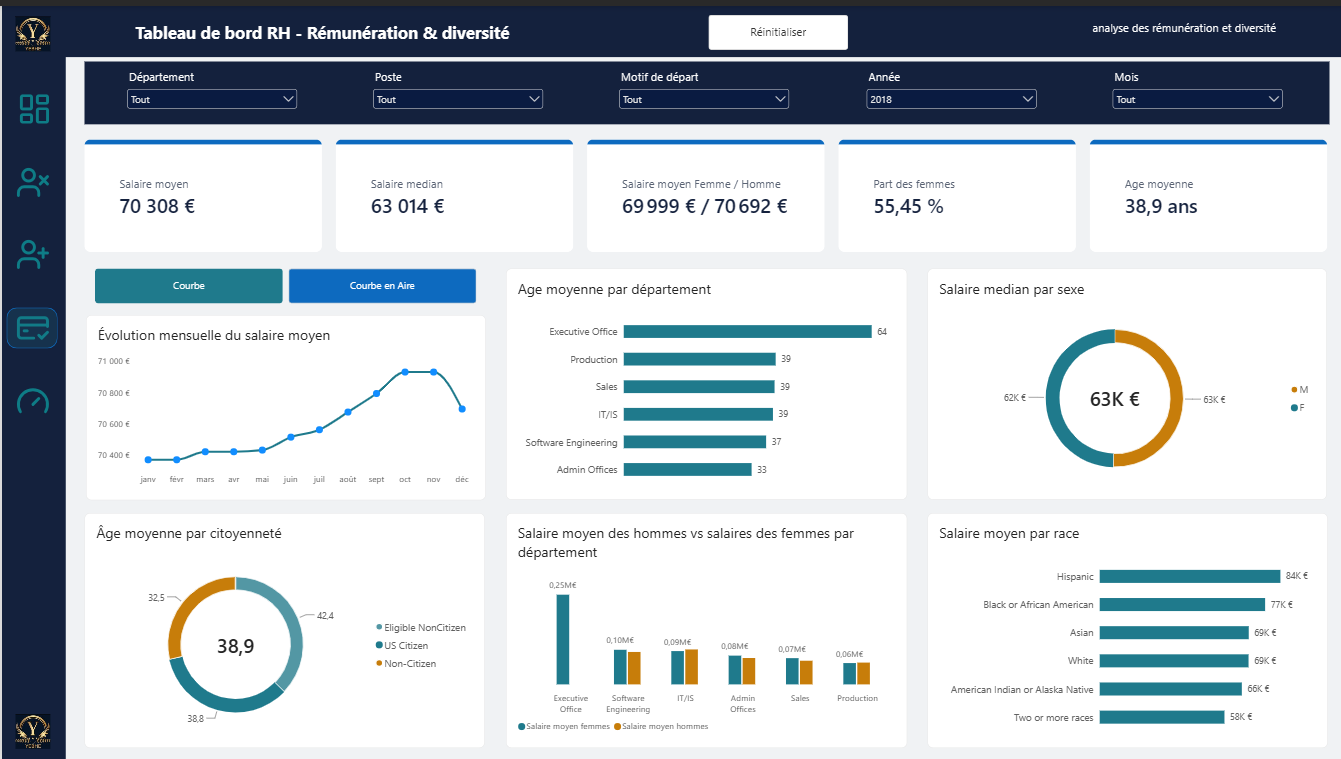

What the dashboard file says about the page in this screenshot:
{"tool":"powerbi","page":{"name":"Rémunération & diversité","canvas":[1920,1080],"ordinal":3},"visuals":[{"type":"image","box":[19.3,15,50,50],"z":0,"group":"g1"},{"type":"shape","box":[117.1,80.5,1783.5,90.3],"z":0},{"type":"shape","box":[0,0,91.5,1080.8],"z":1000},{"type":"image","box":[19.3,1014.1,50,50],"z":1000,"group":"g1"},{"type":"shape","box":[0,0,1920.1,73.2],"z":2000},{"type":"image","box":[21.9,122,50,50],"z":2000,"group":"g1"},{"type":"cardVisual","fields":{"Data":["_Mesures.Salaire moyen","_Mesures.Salaire median","_Mesures.Salaire moyen f/h Texte","_Mesures.Part des femmes","_Mesures.Age moyenne Texte"]},"box":[117.1,190.3,1783.5,161],"z":3000},{"type":"image","box":[19.5,226.9,50,50],"z":3000,"group":"g1"},{"type":"slicer","fields":{"Values":["dim_date.Month name"]},"box":[1585.9,90.3,253.7,73.2],"z":4000},{"type":"image","box":[19.5,331.8,50,50],"z":4000,"group":"g1"},{"type":"image","box":[19.5,436.7,50,50],"z":5000,"group":"g1"},{"type":"clusteredColumnChart","title":"Salaire moyen des hommes vs salaires des femmes par département","fields":{"Category":["dim_department.Department"],"Y":["_Mesures.Salaire moyen femmes","_Mesures.Salaire moyen hommes"]},"box":[721.4,725.9,574.4,336.8],"z":5000},{"type":"donutChart","title":"Salaire median par sexe","fields":{"Category":["dim_employee.Sex"],"Y":["_Mesures.Salaire median"]},"box":[1326.4,376,571.8,331.6],"z":6000},{"type":"image","box":[19.5,541.6,50,50],"z":6000,"group":"g1"},{"type":"clusteredBarChart","title":"Age moyenne par département ","fields":{"Category":["dim_department.Department"],"Y":["_Mesures.Age moyenne"]},"box":[722,376,574.4,331.6],"z":7000},{"type":"clusteredBarChart","title":"Salaire moyen par race","fields":{"Category":["dim_employee.RaceDesc"],"Y":["_Mesures.Salaire moyen"]},"box":[1326.4,725.9,573.4,336.7],"z":8000},{"type":"donutChart","title":"Âge moyenne par citoyenneté","fields":{"Category":["dim_employee.CitizenDesc"],"Y":["_Mesures.Age moyenne"]},"box":[117.5,725.9,573.4,336.7],"z":9000},{"type":"slicer","fields":{"Values":["dim_date.Year"]},"box":[1232.7,90.3,253.7,73.2],"z":10000},{"type":"slicer","fields":{"Values":["dim_emp_status.TermReason"]},"box":[879.6,90.3,253.7,73.2],"z":11000},{"type":"slicer","fields":{"Values":["dim_position.Position"]},"box":[526.4,90.3,253.7,73.2],"z":12000},{"type":"slicer","fields":{"Values":["dim_department.Department"]},"box":[173.2,90.3,253.7,73.2],"z":13000},{"type":"textbox","box":[138.4,20.9,642.3,33.9],"z":14000},{"type":"actionButton","box":[1011.5,12.4,200,50],"z":15000},{"type":"textbox","box":[1563.1,19.8,301.7,27.2],"z":16000},{"type":"lineChart","title":"Évolution mensuelle du salaire moyen","fields":{"Category":["dim_date.Month name"],"Y":["_Mesures.Salaire moyen"]},"box":[120,442.5,572.5,265],"z":18000},{"type":"bookmarkNavigator","box":[132.5,375,547.5,50],"z":19000},{"type":"group","id":"g1","title":"Groupe 1","box":[19.3,15,52.6,1049.1],"z":20000},{"type":"shape","box":[7.3,431.8,73.2,58.6],"z":21000}]}

Visuals, with their boxes on the page's 1920x1080 design canvas (x1, y1, x2, y2). These are canvas units, not pixel positions in the 1341x759 screenshot, which may show the page scaled, cropped or inside an application window:
image: (left=19, top=15, right=69, bottom=65)
shape: (left=117, top=80, right=1901, bottom=171)
shape: (left=0, top=0, right=92, bottom=1081)
image: (left=19, top=1014, right=69, bottom=1064)
shape: (left=0, top=0, right=1920, bottom=73)
image: (left=22, top=122, right=72, bottom=172)
cardVisual - _Mesures.Salaire moyen x _Mesures.Salaire median: (left=117, top=190, right=1901, bottom=351)
image: (left=20, top=227, right=70, bottom=277)
slicer - dim_date.Month name: (left=1586, top=90, right=1840, bottom=164)
image: (left=20, top=332, right=70, bottom=382)
image: (left=20, top=437, right=70, bottom=487)
"Salaire moyen des hommes vs salaires des femmes par département" clusteredColumnChart: (left=721, top=726, right=1296, bottom=1063)
"Salaire median par sexe" donutChart: (left=1326, top=376, right=1898, bottom=708)
image: (left=20, top=542, right=70, bottom=592)
"Age moyenne par département " clusteredBarChart: (left=722, top=376, right=1296, bottom=708)
"Salaire moyen par race" clusteredBarChart: (left=1326, top=726, right=1900, bottom=1063)
"Âge moyenne par citoyenneté" donutChart: (left=118, top=726, right=691, bottom=1063)
slicer - dim_date.Year: (left=1233, top=90, right=1486, bottom=164)
slicer - dim_emp_status.TermReason: (left=880, top=90, right=1133, bottom=164)
slicer - dim_position.Position: (left=526, top=90, right=780, bottom=164)
slicer - dim_department.Department: (left=173, top=90, right=427, bottom=164)
textbox: (left=138, top=21, right=781, bottom=55)
actionButton: (left=1012, top=12, right=1212, bottom=62)
textbox: (left=1563, top=20, right=1865, bottom=47)
"Évolution mensuelle du salaire moyen" lineChart: (left=120, top=442, right=692, bottom=708)
bookmarkNavigator: (left=132, top=375, right=680, bottom=425)
"Groupe 1" group: (left=19, top=15, right=72, bottom=1064)
shape: (left=7, top=432, right=80, bottom=490)
